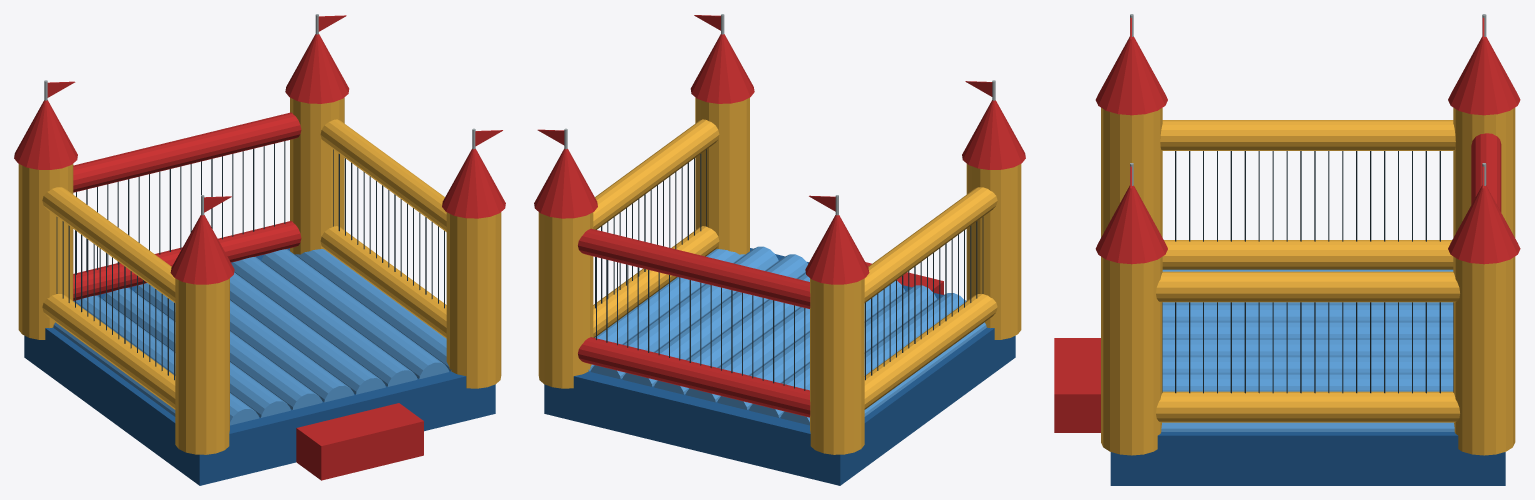
The model's file is scendance-plan-bouncy-castle.glb.
The picture shows the model from 3 angles, left to right: view 1: azimuth 30°, elevation 25°; view 2: azimuth 150°, elevation 25°; view 3: azimuth 270°, elevation 25°; orthographic projection. The views are drawn at different scales.
Size of the model in its own units: 3.99 by 3.26 by 4.36.
